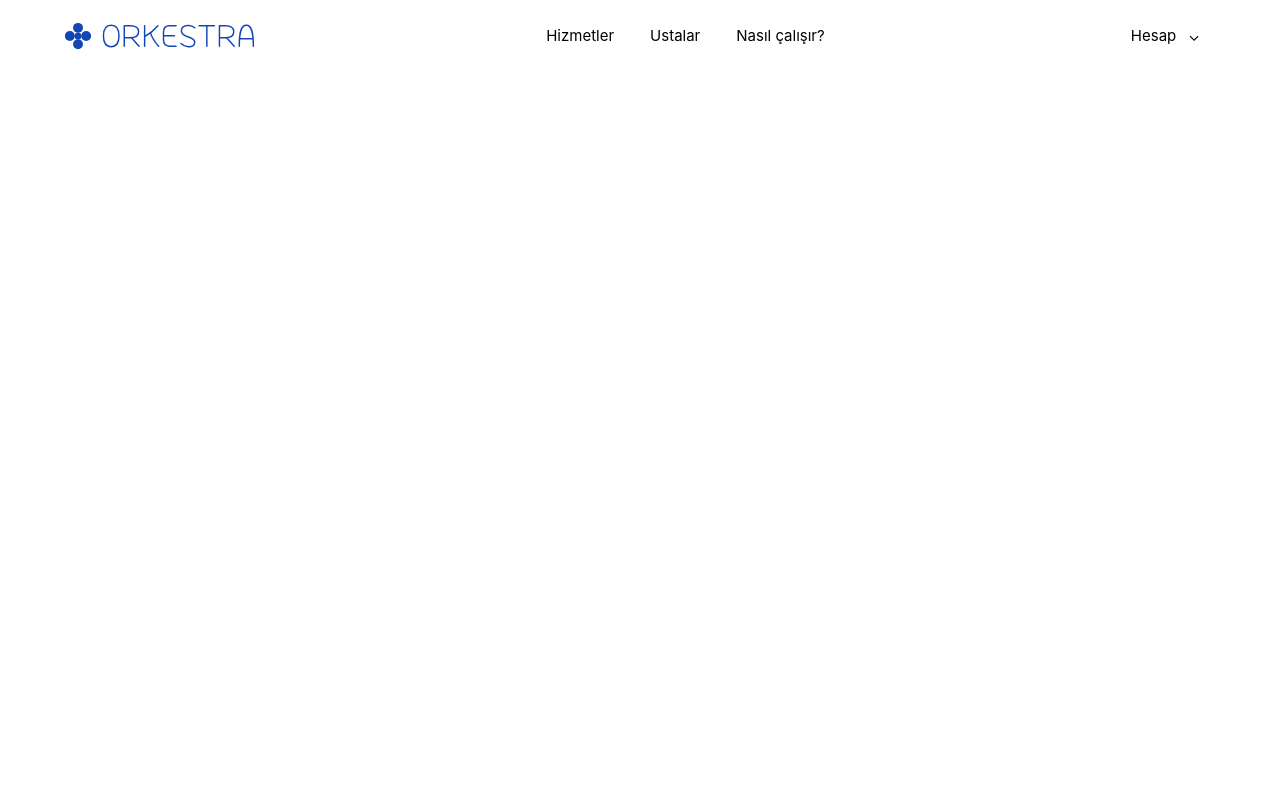
Test case: does not treat an auth lookup error as a logged-out user
Click the button "Hesap ⌄".
click(1165, 36)  # box [1115,14,1216,58]
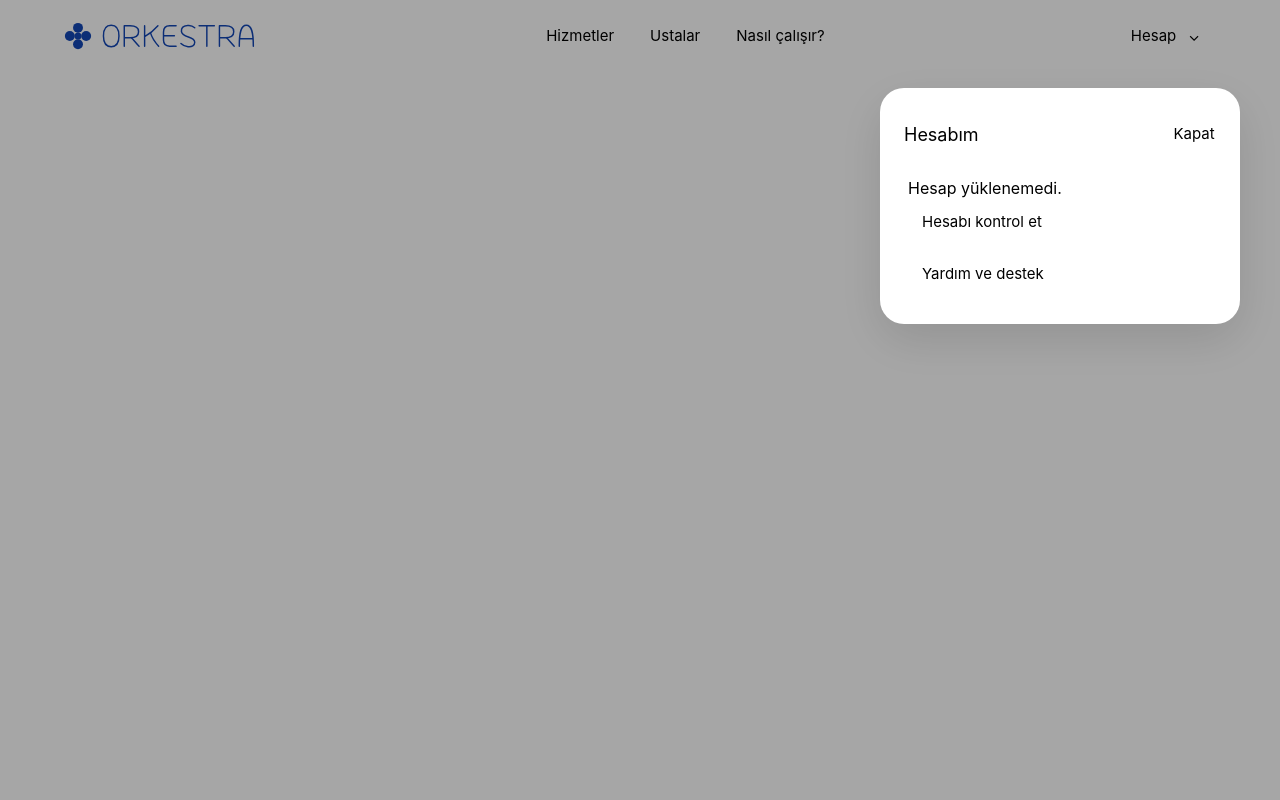
Result: the message shows "Hesap yüklenemedi" at [908,178,1062,198]
